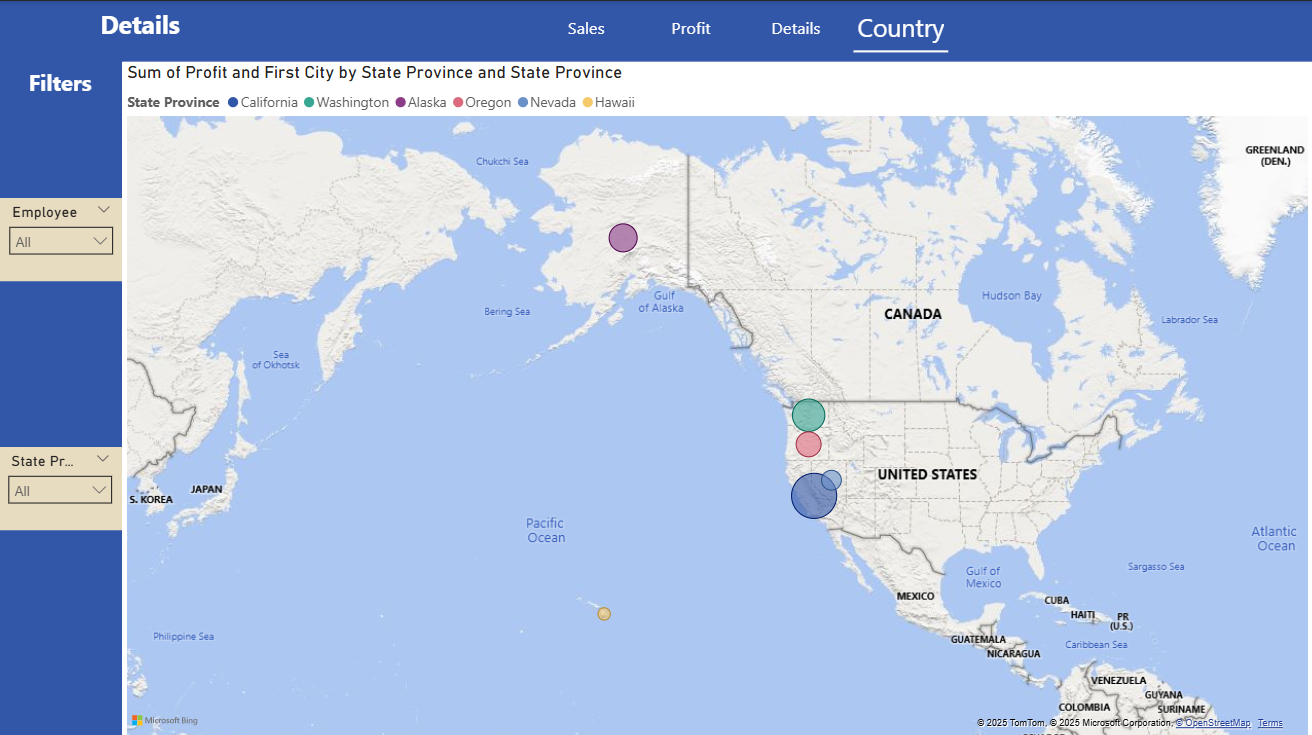

The dashboard page shown, as its layout file describes it:
{"tool":"powerbi","page":{"name":"Country","canvas":[1280,720],"ordinal":3},"visuals":[{"type":"shape","box":[0,0,1280,59.1],"z":0},{"type":"shape","box":[0,1,121,719],"z":1000},{"type":"slicer","fields":{"Values":["DimEmployee.Employee"]},"box":[1,192,121,81],"z":2000},{"type":"slicer","fields":{"Values":["DimCity.State Province"]},"box":[0,434,121,81],"z":3000},{"type":"textbox","box":[0,1,276.2,58.4],"z":4000},{"type":"textbox","box":[0,59.3,120.6,86.6],"z":5000},{"type":"pageNavigator","box":[526,0,400,50],"z":6000},{"type":"map","fields":{"Category":["DimCity.Country Hierarchy.State Province","DimCity.Country Hierarchy.City"],"Size":["Sum(FactSale.Profit)"],"Series":["DimCity.Country Hierarchy.State Province"]},"box":[120.6,59.3,1159.4,660.4],"z":7000}]}

Visuals, with their boxes in screenshot pixels (x1, y1, x2, y2), scaled from the page's 1280x720 canvas onto the 1312x735 screenshot:
shape: {"x1": 0, "y1": 0, "x2": 1311, "y2": 60}
shape: {"x1": 0, "y1": 1, "x2": 124, "y2": 734}
slicer - DimEmployee.Employee: {"x1": 1, "y1": 196, "x2": 125, "y2": 279}
slicer - DimCity.State Province: {"x1": 0, "y1": 443, "x2": 124, "y2": 526}
textbox: {"x1": 0, "y1": 1, "x2": 283, "y2": 61}
textbox: {"x1": 0, "y1": 61, "x2": 124, "y2": 149}
pageNavigator: {"x1": 539, "y1": 0, "x2": 949, "y2": 51}
map - DimCity.Country Hierarchy.State Province x DimCity.Country Hierarchy.City: {"x1": 124, "y1": 61, "x2": 1311, "y2": 734}
